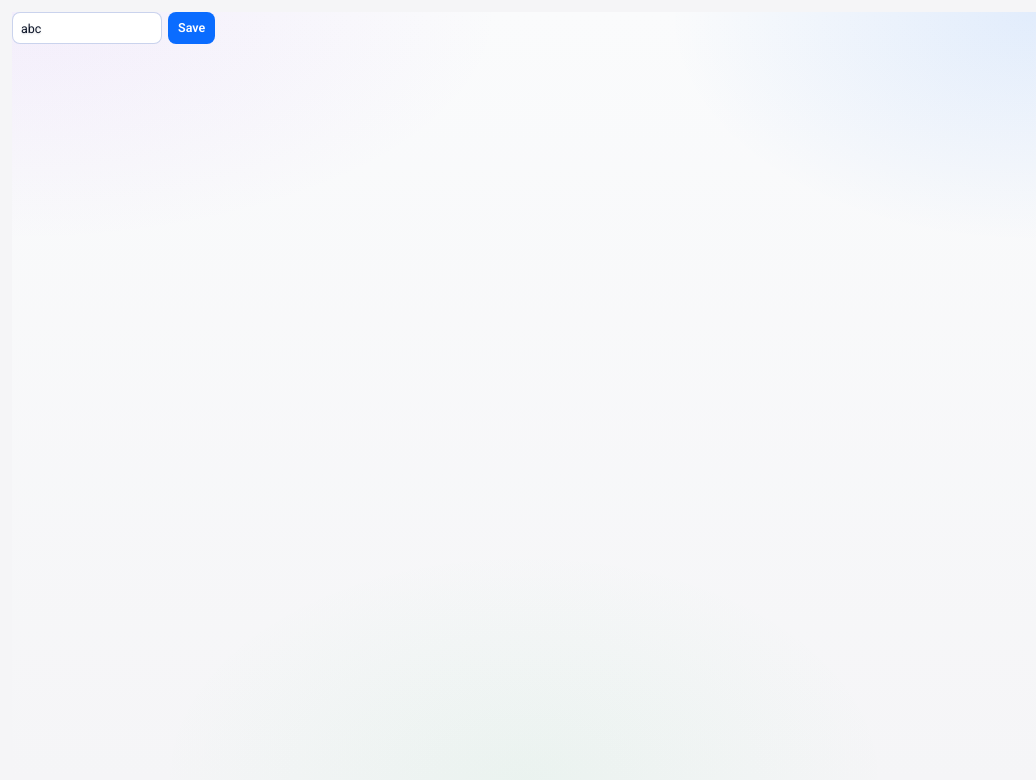
Test: the confirmed-amount field component (no longer in the Tracker row; kept, with its own rules) › an invalid or negative amount is refused in the browser — the server is never called
The image size is (1036, 780).
Earlier steps of the test are not shown.
Step 1. Click the button with aria-label "Save confirmed amount for Alpha Traders" → click(192, 28), box [168,12,215,44]
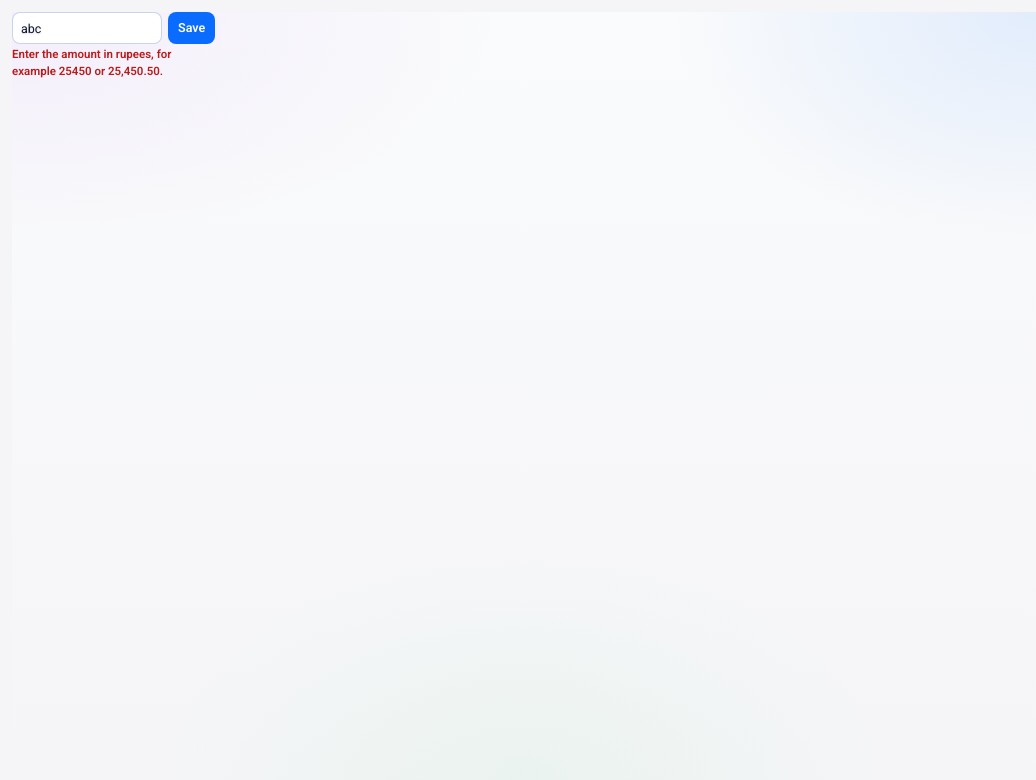
Result: the message shows "Enter the amount in rupees" at [12,47,171,78]
Step 2. Replace the text in the field named "Collection Amount Confirmation for Alpha Traders" with "12.345" → (87, 28), box [12,12,162,44]
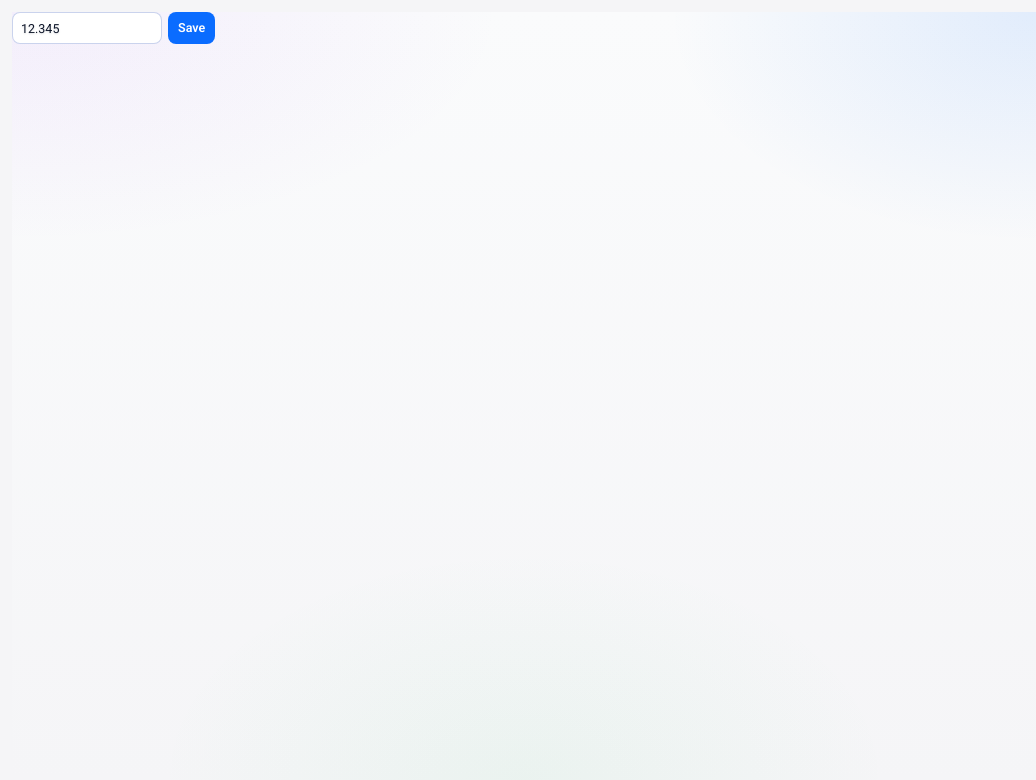
Step 3. Click the button with aria-label "Save confirmed amount for Alpha Traders" → click(192, 28), box [168,12,215,44]
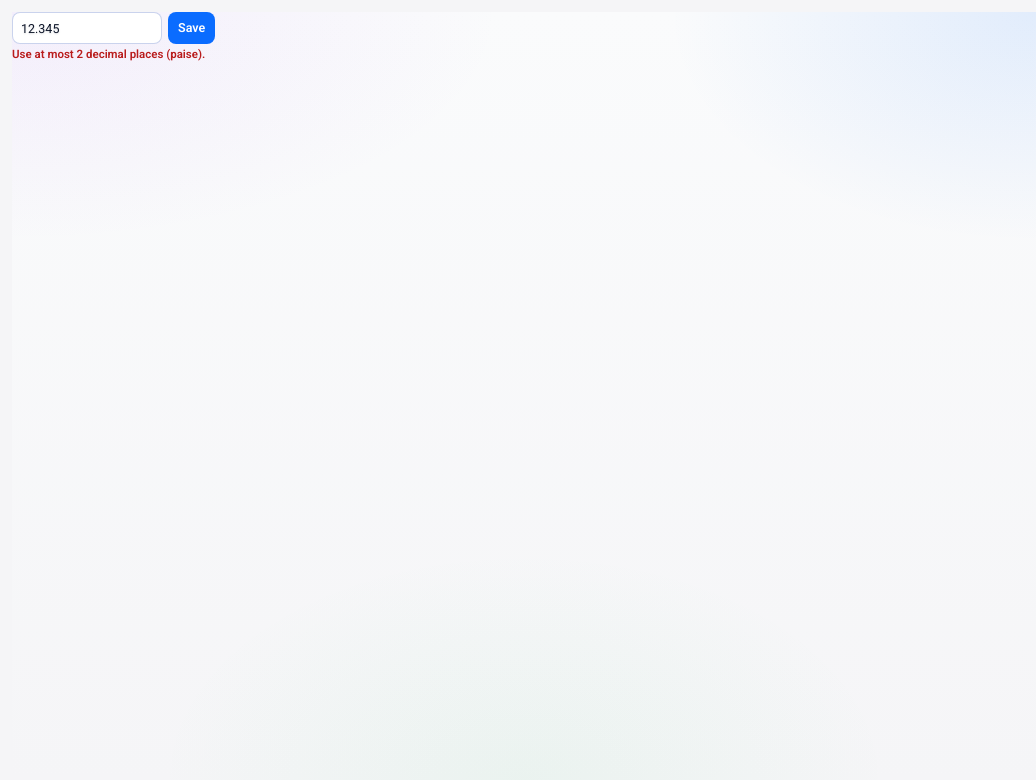
Result: the message shows "at most 2 decimal places" at [12,47,205,61]
Step 4. Replace the text in the field named "Collection Amount Confirmation for Alpha Traders" with "0" → (87, 28), box [12,12,162,44]
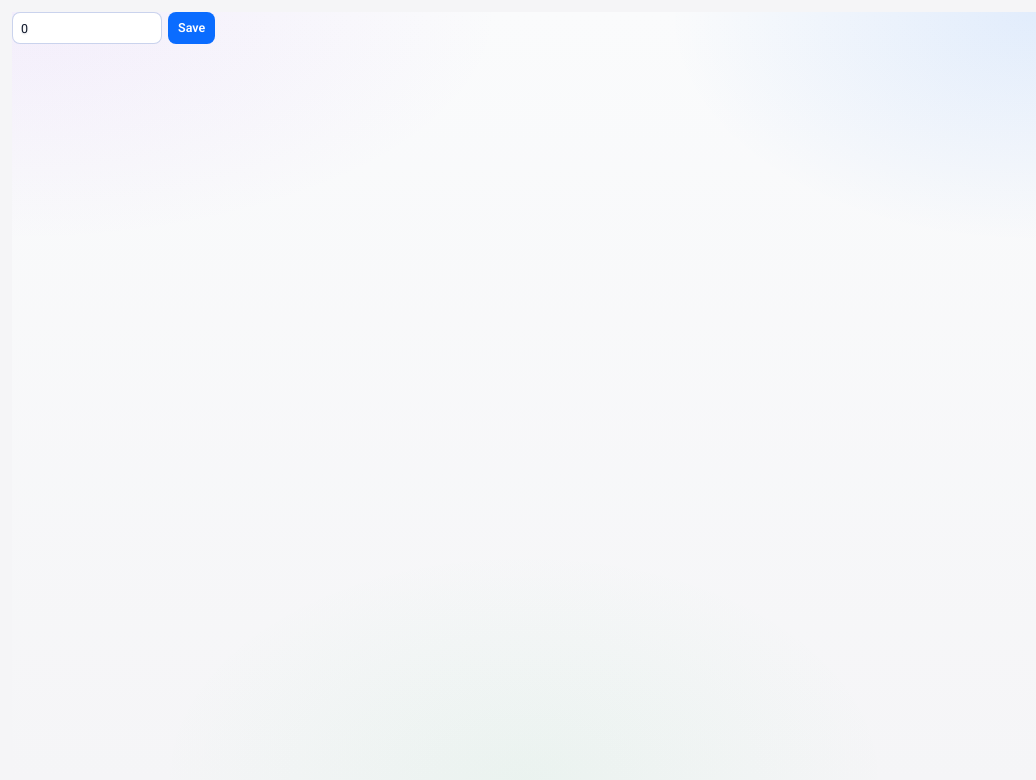
Step 5. Click the button with aria-label "Save confirmed amount for Alpha Traders" → click(192, 28), box [168,12,215,44]
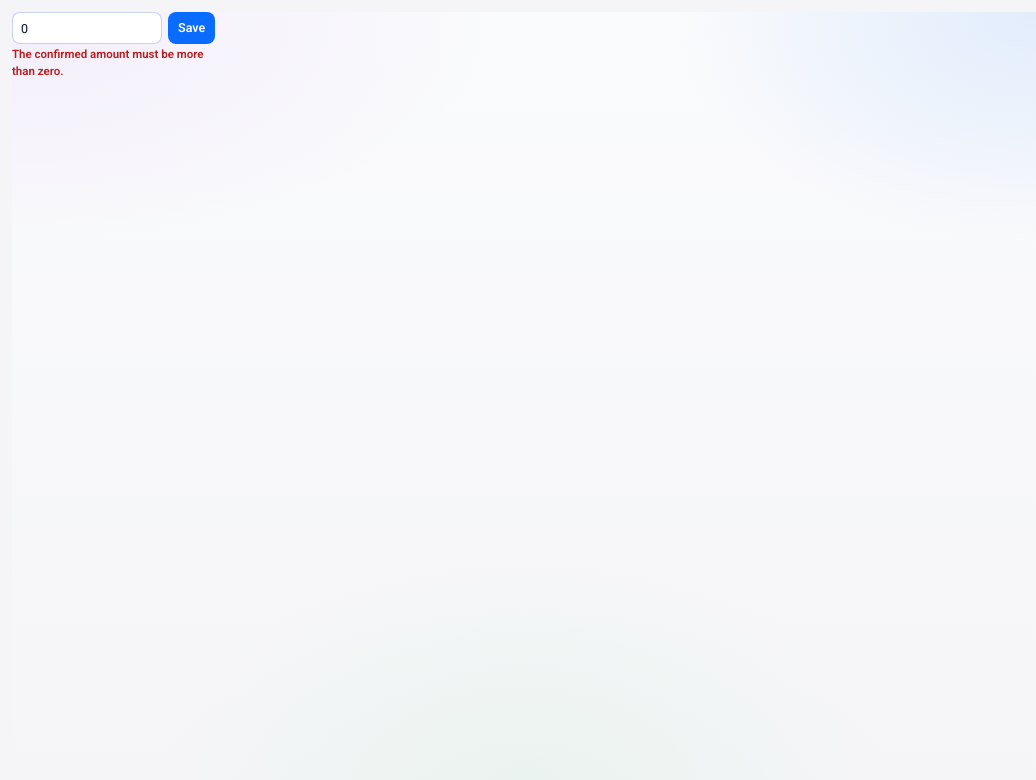
Result: the message shows "more than zero" at [12,47,204,78]
Step 6. Replace the text in the field named "Collection Amount Confirmation for Alpha Traders" with "12" → (87, 28), box [12,12,162,44]
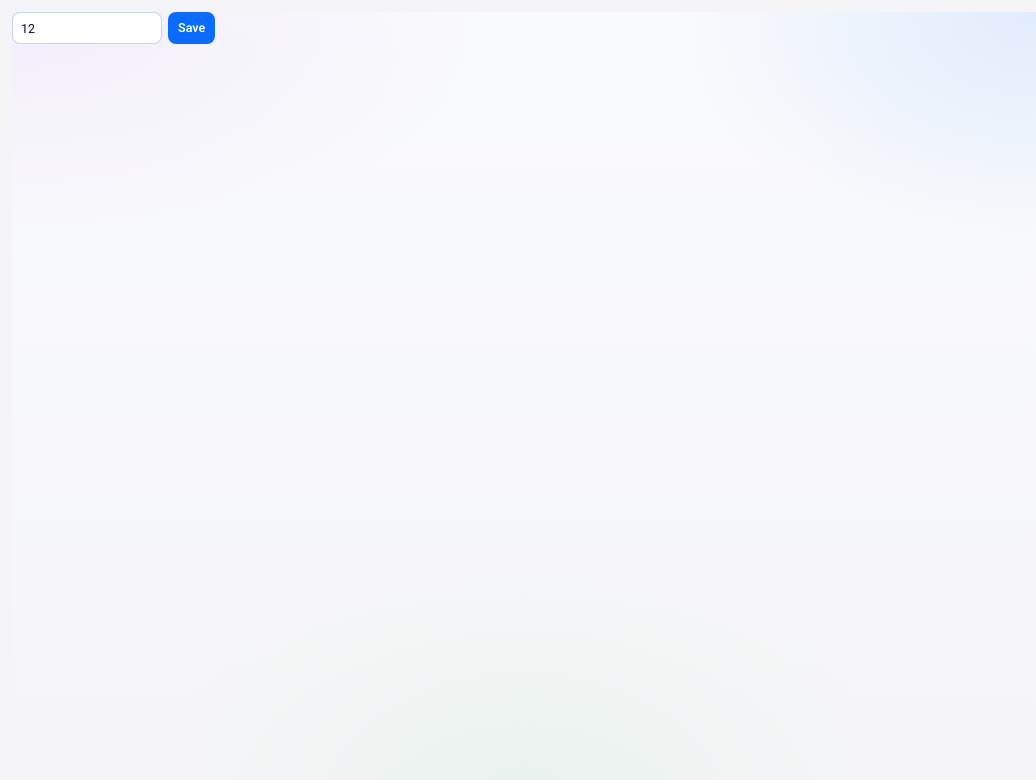
Result: the message "The confirmed amount must be more than zero." is gone
